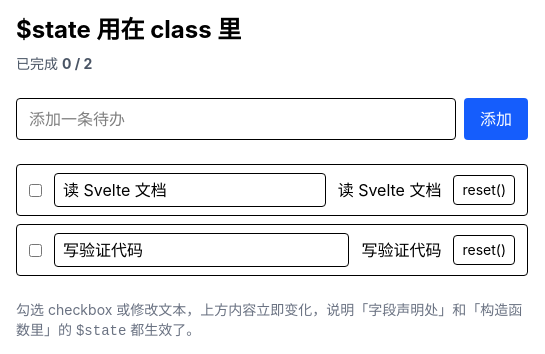
Test: /state-class 页面 › 点击 reset() 会清空文本并取消勾选
The width and height of the screenshot is (545, 354).
Click the checkbox with test id "todo-done-0": (36, 190) x1=29 y1=184 x2=42 y2=196
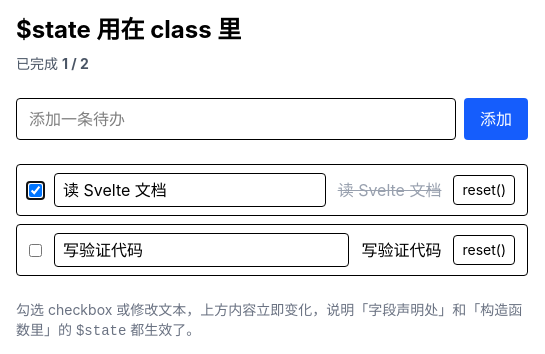
Replace the text in the field with test id "todo-input-0" with "临时内容": (190, 190) x1=54 y1=173 x2=326 y2=207
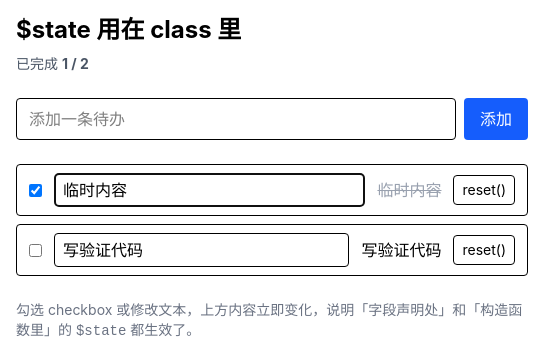
Now the text with test id "done-count" reads "1 / 2", box x1=62 y1=55 x2=89 y2=72
Click the button with test id "reset-0": (484, 190) x1=454 y1=175 x2=515 y2=205
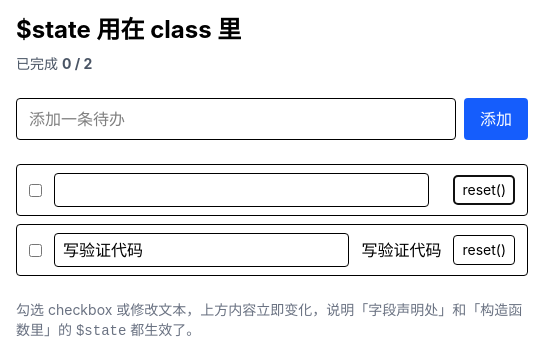
Now the checkbox with test id "todo-done-0" is not checked, box x1=29 y1=184 x2=42 y2=196
Now the field with test id "todo-input-0" is empty, box x1=54 y1=173 x2=430 y2=207
Now the text with test id "done-count" reads "0 / 2", box x1=62 y1=55 x2=92 y2=72
